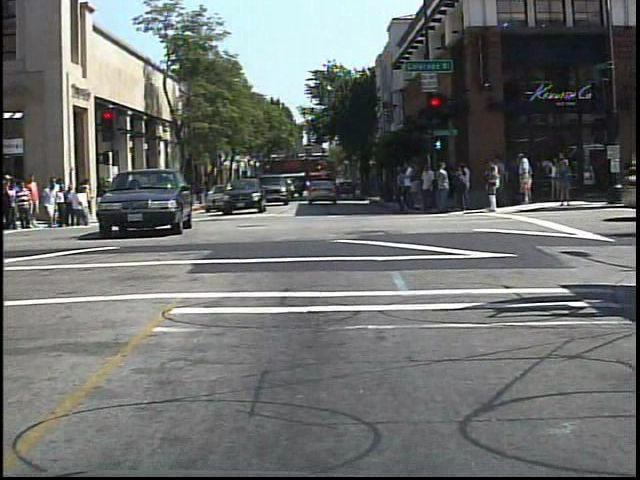person: (512, 148, 537, 206), (12, 179, 35, 233), (41, 175, 63, 231)
